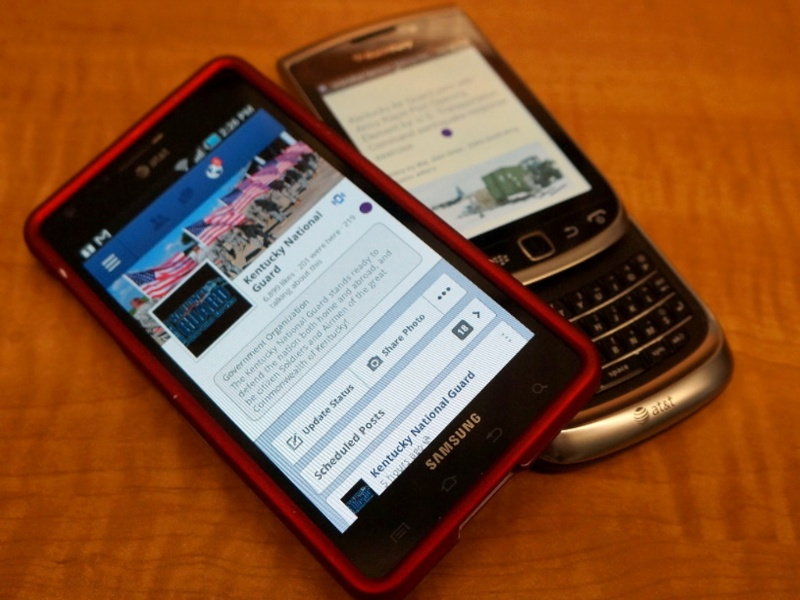cellphone: (30, 112, 597, 598), (303, 21, 734, 434)
